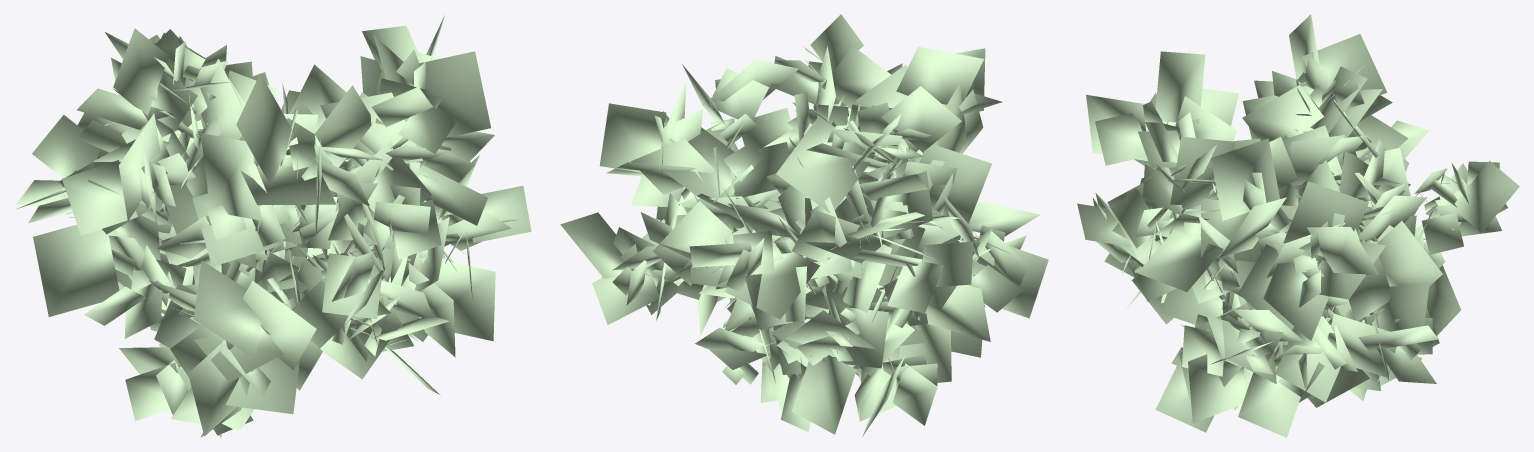
The model's file is bush_1_v0_lod2.glb.
3 views of the same model, side by side, from view 1: azimuth 30°, elevation 25°; view 2: azimuth 150°, elevation 25°; view 3: azimuth 270°, elevation 25° (orthographic). The views are drawn at different scales.
Visible parts, largest first — view 1: Leaves; view 2: Leaves; view 3: Leaves.
Part boxes in pixels (box(x1,y1,x2,y2)): Leaves: box(16, 15, 531, 437); Leaves: box(560, 14, 1048, 436); Leaves: box(1077, 14, 1519, 437).
Bounding box in the file's own units: 33.22 × 28.77 × 33.35.
